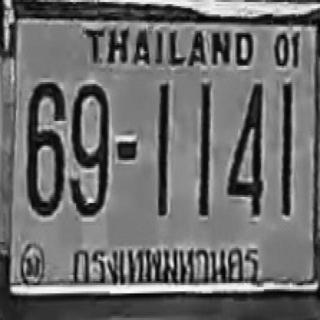N01: (156, 83, 169, 216), (280, 82, 292, 215), (199, 82, 210, 215)
N04: (227, 82, 263, 215)
N06: (26, 81, 65, 214)
N09: (70, 82, 108, 215)
P04: (68, 239, 264, 292)
